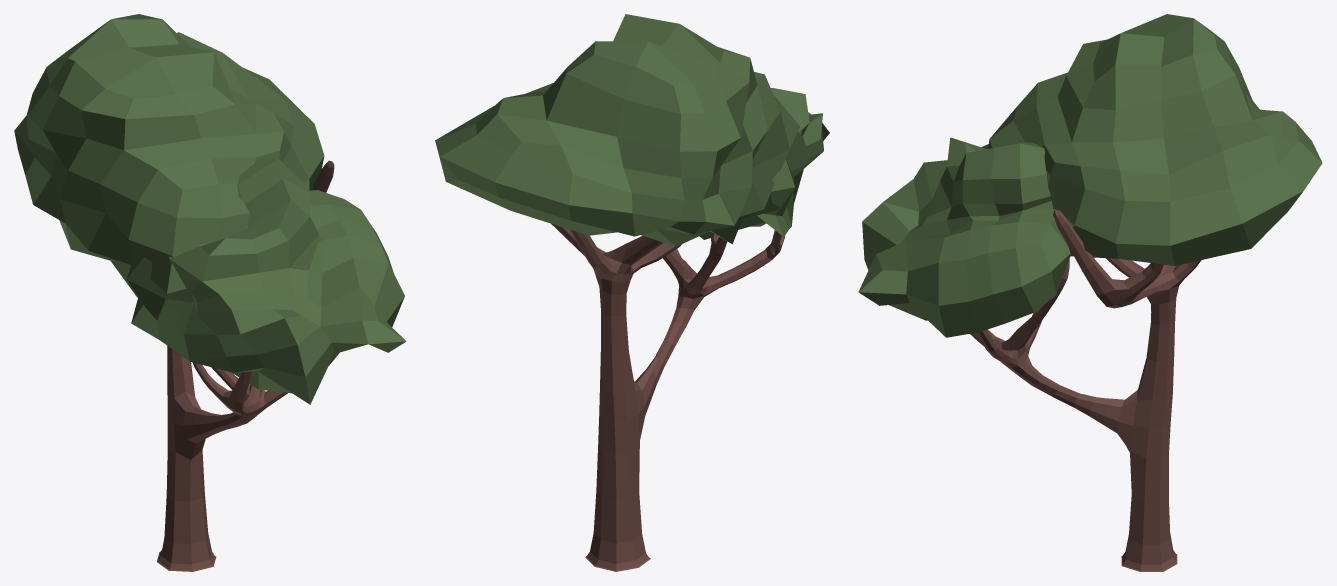
The model's file is common-tree-2.glb.
The picture shows the model from 3 angles, left to right: view 1: azimuth 30°, elevation 25°; view 2: azimuth 150°, elevation 25°; view 3: azimuth 270°, elevation 25°; orthographic projection. The views are drawn at different scales.
Visible parts, largest first — view 1: CommonTree_2; view 2: CommonTree_2; view 3: CommonTree_2.
Part boxes in pixels (x1,y1,x2,y2): CommonTree_2: (14, 14, 406, 571); CommonTree_2: (435, 14, 829, 571); CommonTree_2: (858, 14, 1322, 571).
Bounding box in the file's own units: 1.66 × 3.12 × 2.54.
